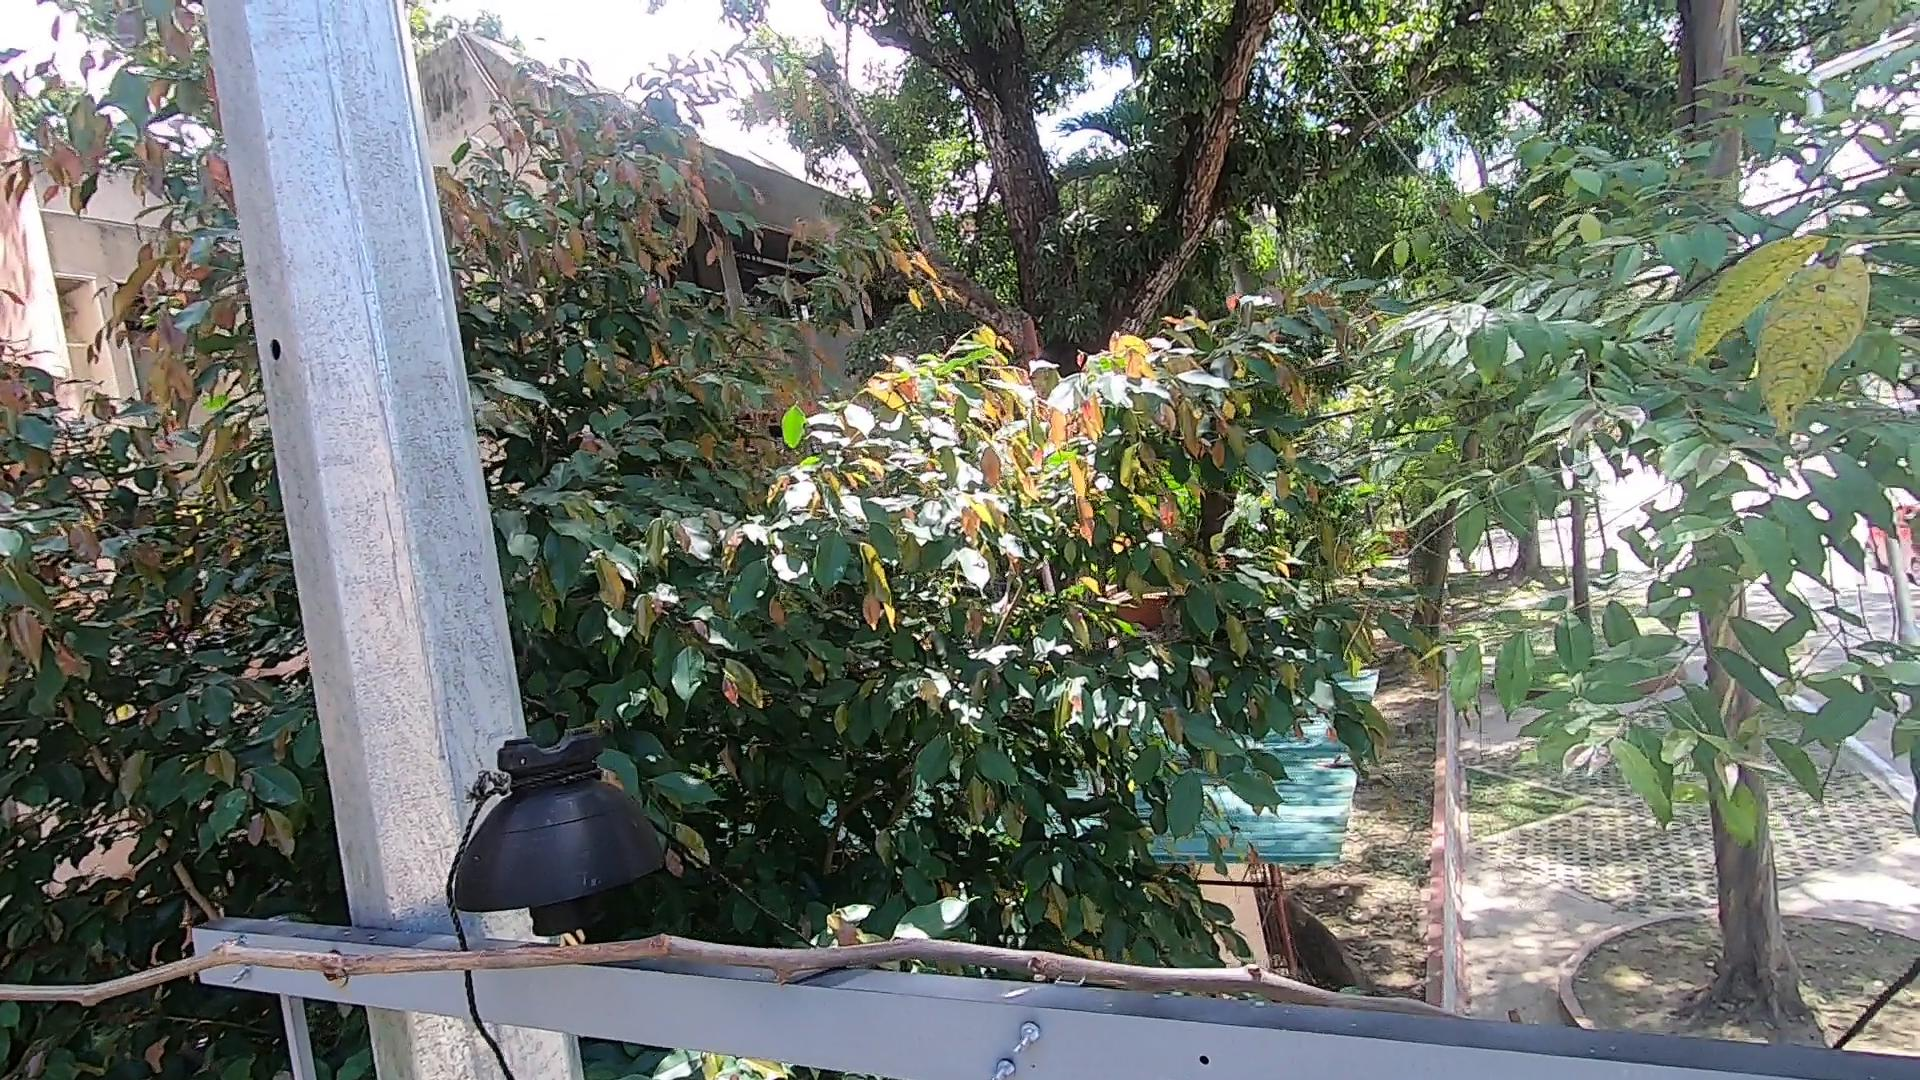tree branch: (1, 927, 1495, 1044)
